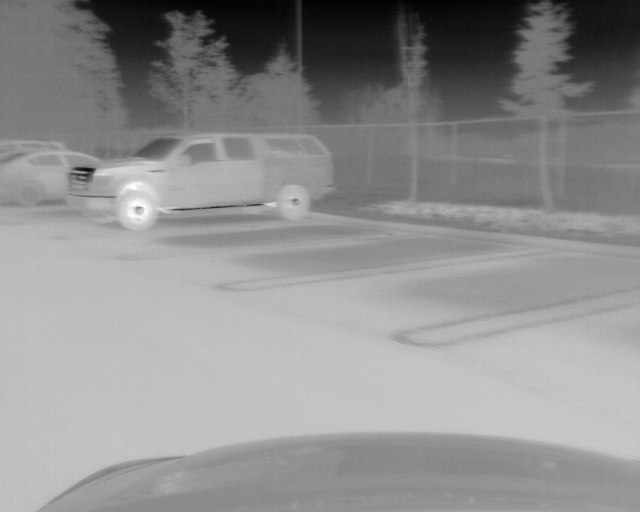car: (64, 131, 338, 234), (2, 151, 109, 205), (2, 139, 69, 156)
